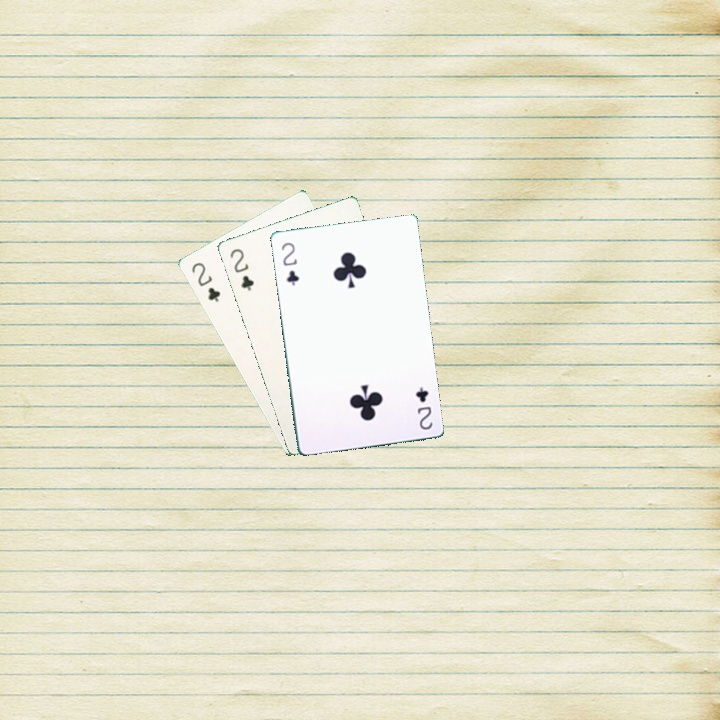2c: (187, 258, 223, 305), (226, 244, 256, 294), (277, 238, 302, 288), (411, 383, 435, 432)
